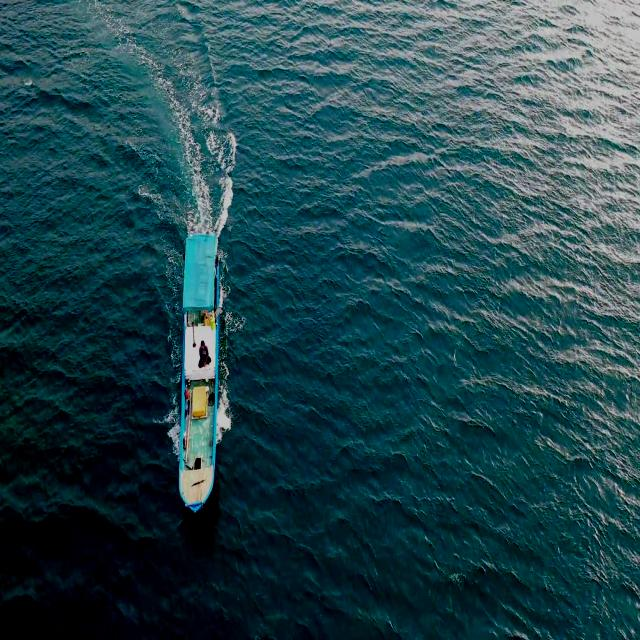ship: (174, 207, 223, 518)
